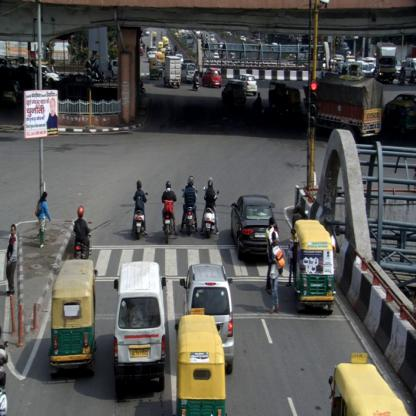car: (113, 262, 166, 389)
motorcycle: (202, 176, 220, 238), (181, 175, 198, 236), (163, 180, 178, 244), (133, 181, 146, 241)
truck: (181, 263, 235, 376), (316, 71, 382, 141), (230, 196, 278, 261), (377, 42, 396, 83), (162, 56, 184, 90), (200, 68, 221, 88), (182, 61, 196, 83)
